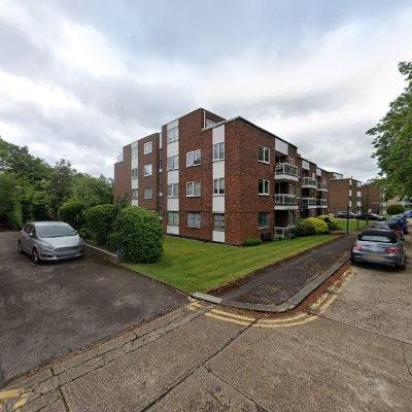stationary-car-offstreet: (17, 220, 83, 264)
stationary-car-onstreet: (350, 228, 406, 270), (372, 221, 404, 239), (357, 211, 389, 223), (386, 212, 406, 228), (334, 209, 356, 221)
